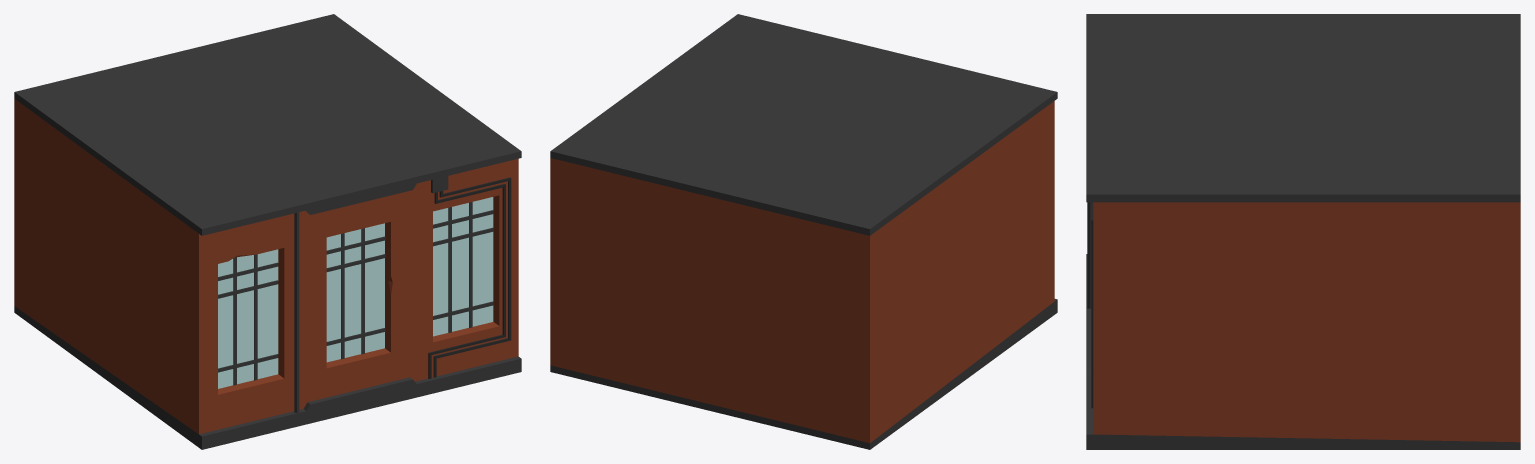
File: SM_BuildingPart_11.fbx
The picture shows the model from 3 angles, left to right: view 1: azimuth 30°, elevation 25°; view 2: azimuth 150°, elevation 25°; view 3: azimuth 270°, elevation 25°; orthographic projection. The views are drawn at different scales.
Parts seen in each view (by area): view 1: SM_BuildingPart_11; view 2: SM_BuildingPart_11; view 3: SM_BuildingPart_11.
Boxes of the visible parts, left/top/right/bottom form: SM_BuildingPart_11: left=14, top=14, right=521, bottom=449; SM_BuildingPart_11: left=550, top=14, right=1057, bottom=449; SM_BuildingPart_11: left=1086, top=14, right=1520, bottom=449.
Bounding box in the file's own units: 500 × 330 × 508.
